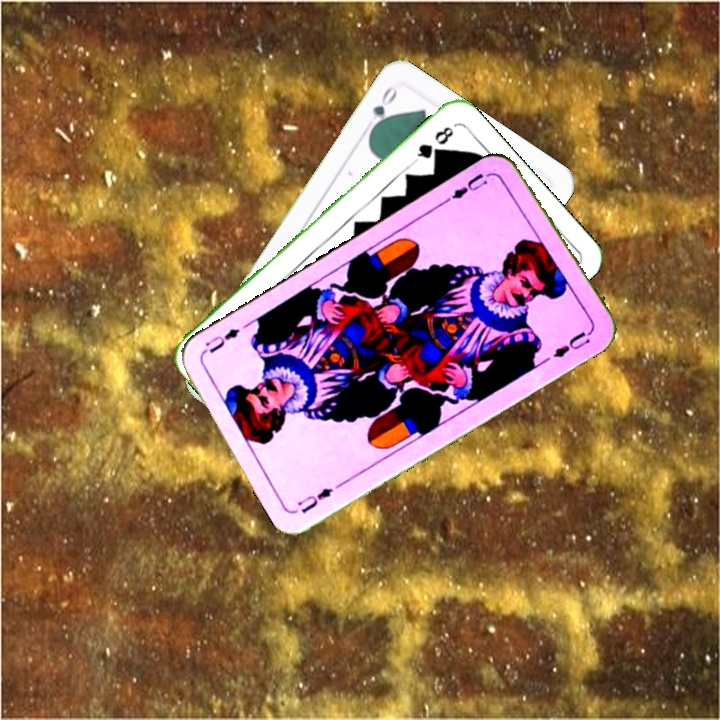EU: (444, 169, 490, 203), (293, 483, 336, 516)
G8: (409, 122, 457, 165)
GO: (366, 82, 400, 136)
